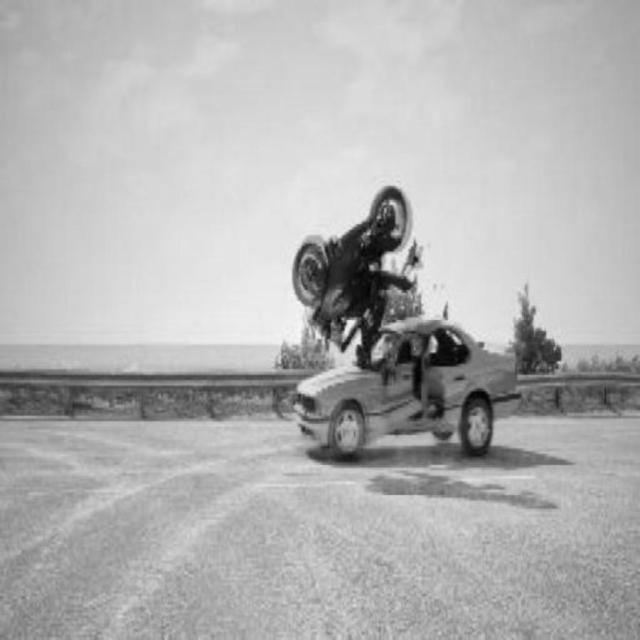accident: (290, 185, 518, 453)
